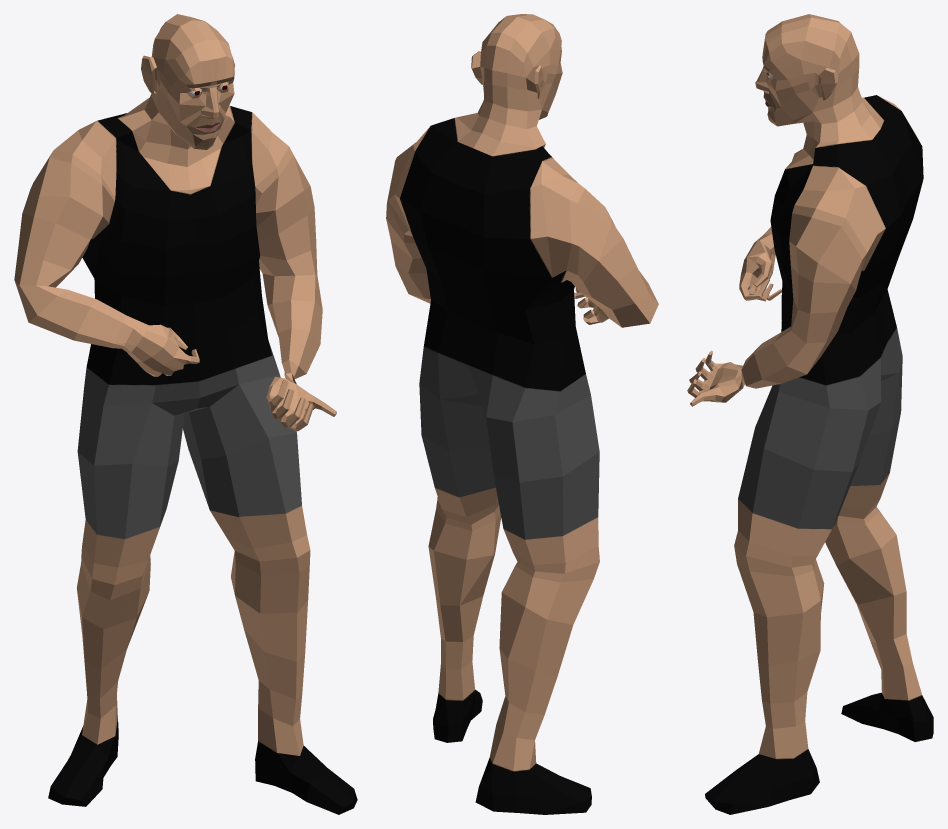
The model's file is PlayerIdle(217).obj.
3 views of the same model, side by side, from view 1: azimuth 30°, elevation 25°; view 2: azimuth 150°, elevation 25°; view 3: azimuth 270°, elevation 25° (orthographic). The views are drawn at different scales.
Parts seen in each view (by area): view 1: Plane002; view 2: Plane002; view 3: Plane002.
Boxes of the visible parts, x1,y1,x2,y2 form: Plane002: (14,14,357,814); Plane002: (386,14,658,814); Plane002: (687,14,933,814).
Bounding box in the file's own units: 676 × 1800 × 543.
